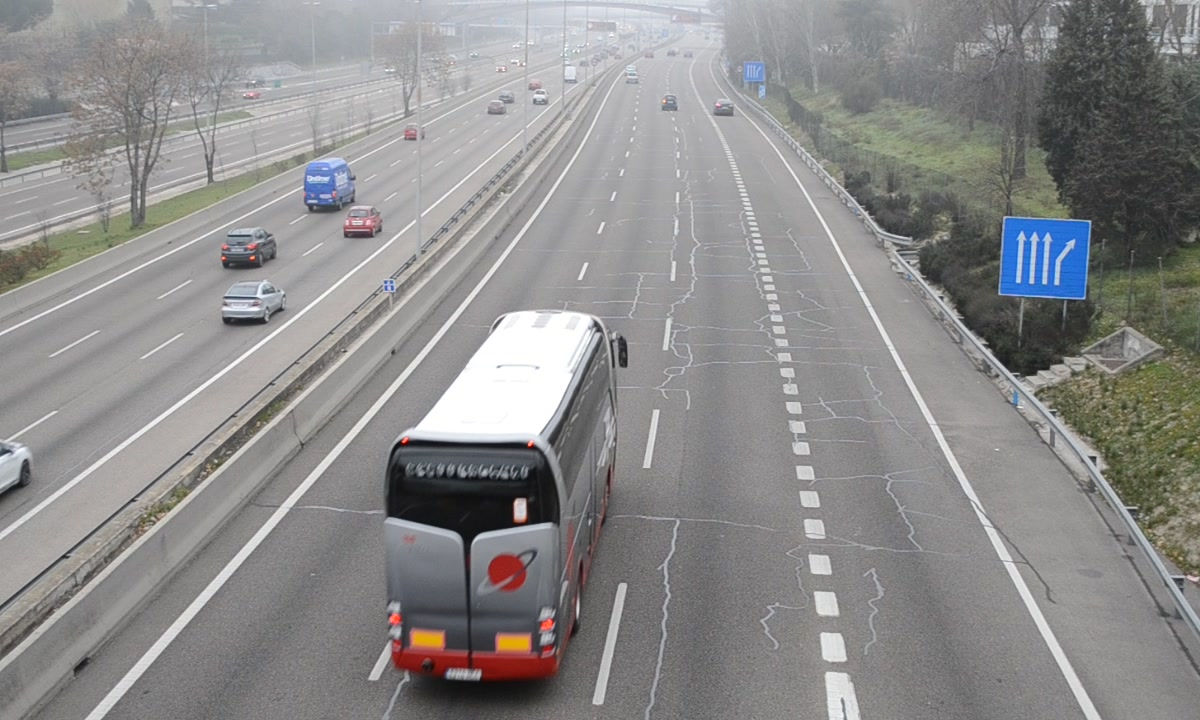bus: (383, 310, 618, 687)
car: (660, 93, 680, 114), (714, 99, 735, 118)
